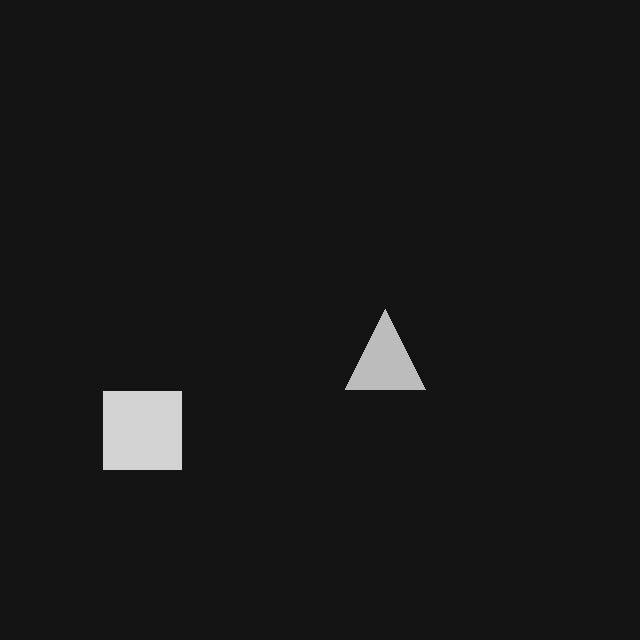square: (103, 391, 181, 469)
triangle: (345, 309, 425, 389)
